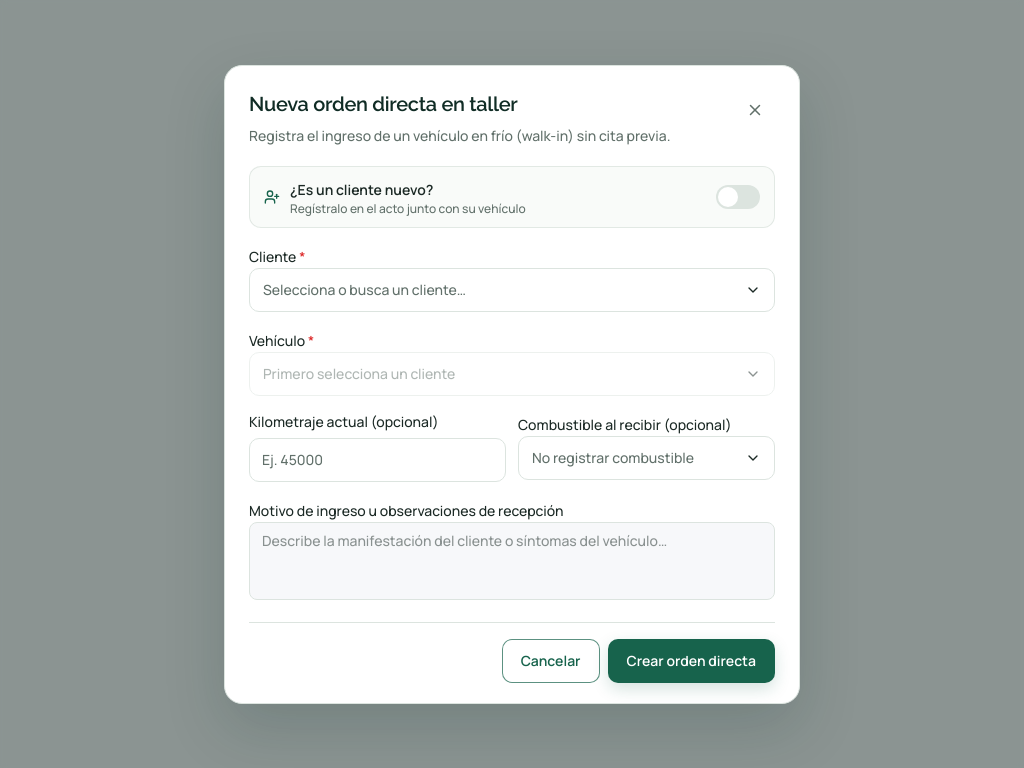
Test: DirectWorkOrderModal › permite alternar al modo de cliente nuevo y muestra los campos de cliente y vehículo
Click the checkbox labelled "¿Es un cliente nuevo?". click: (362, 189)
box: [290,180,433,198]
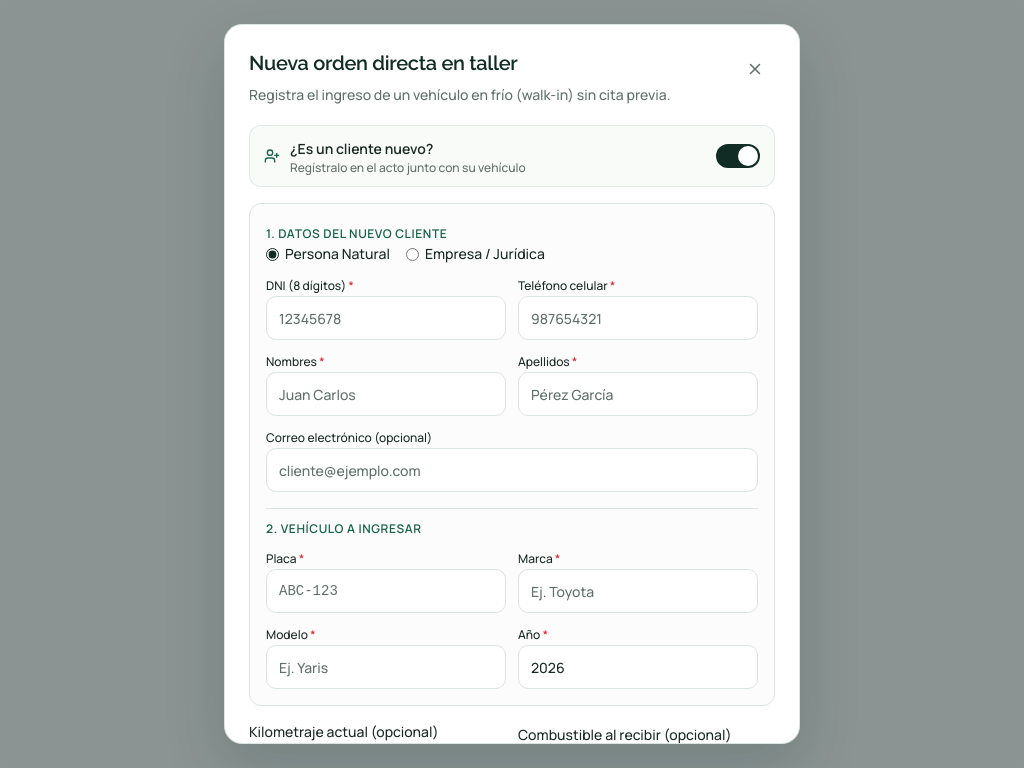
Check: the text "1. Datos del Nuevo Cliente" is shown, box [266,225,447,242]
Check: the text "2. Vehículo a Ingresar" is shown, box [266,520,422,537]
Check: the field labelled "DNI (8 dígitos) *" is shown, box [267,297,505,339]
